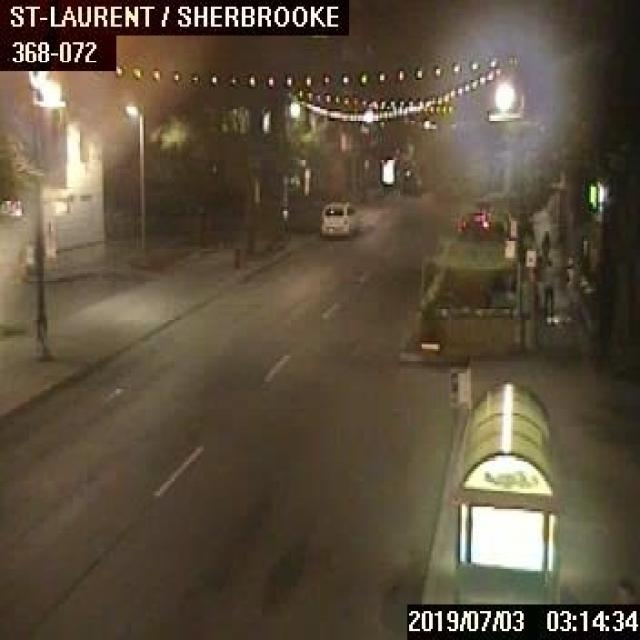pedestrian: (543, 258, 553, 318), (538, 224, 551, 258)
vehicle: (316, 198, 353, 233), (460, 207, 491, 233)
